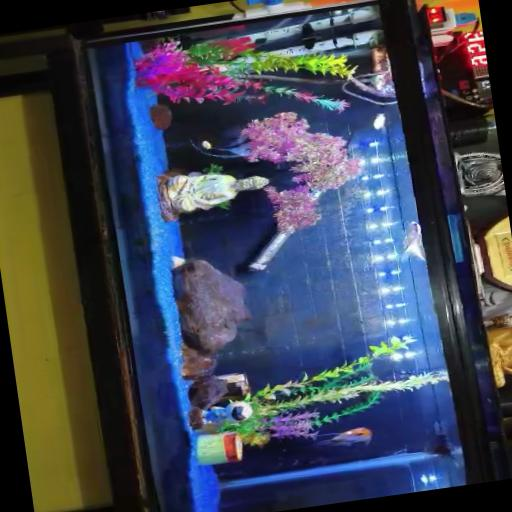Fish: (189, 135, 249, 158), (315, 427, 371, 445), (401, 221, 424, 259), (372, 113, 384, 128), (201, 140, 211, 148)
